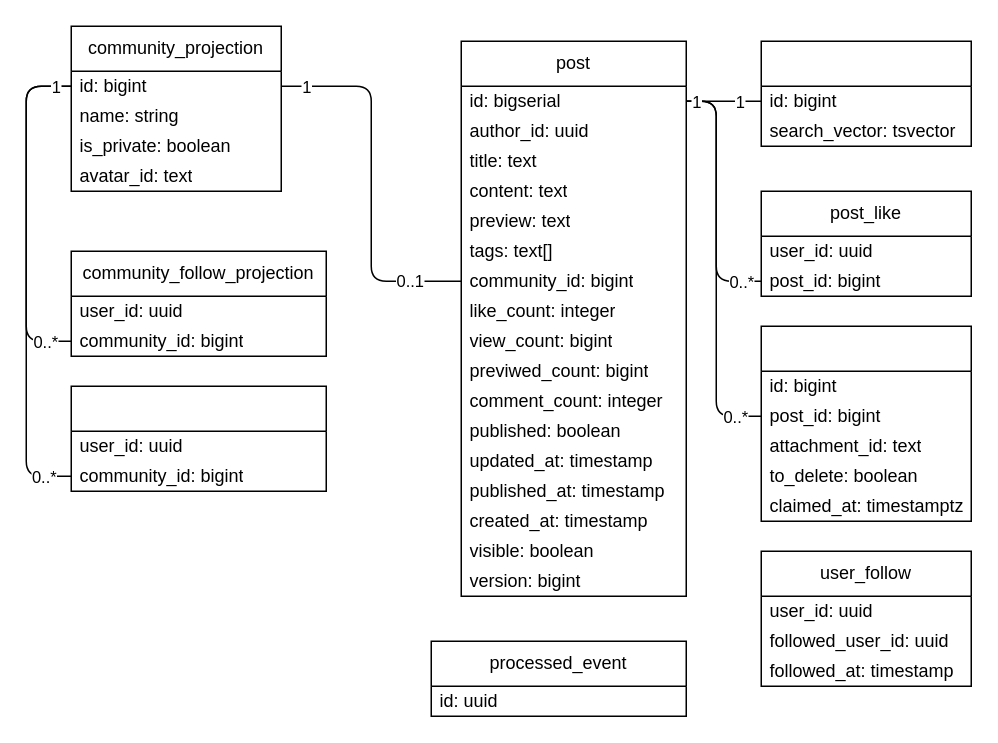
Image size: 998x743. Some labels were removed from this diagram. Each missing label, with the box of its shape:
community_ban_projection: (70, 385, 326, 491)
document_vector: (760, 40, 971, 146)
post_attachment: (760, 325, 971, 521)
